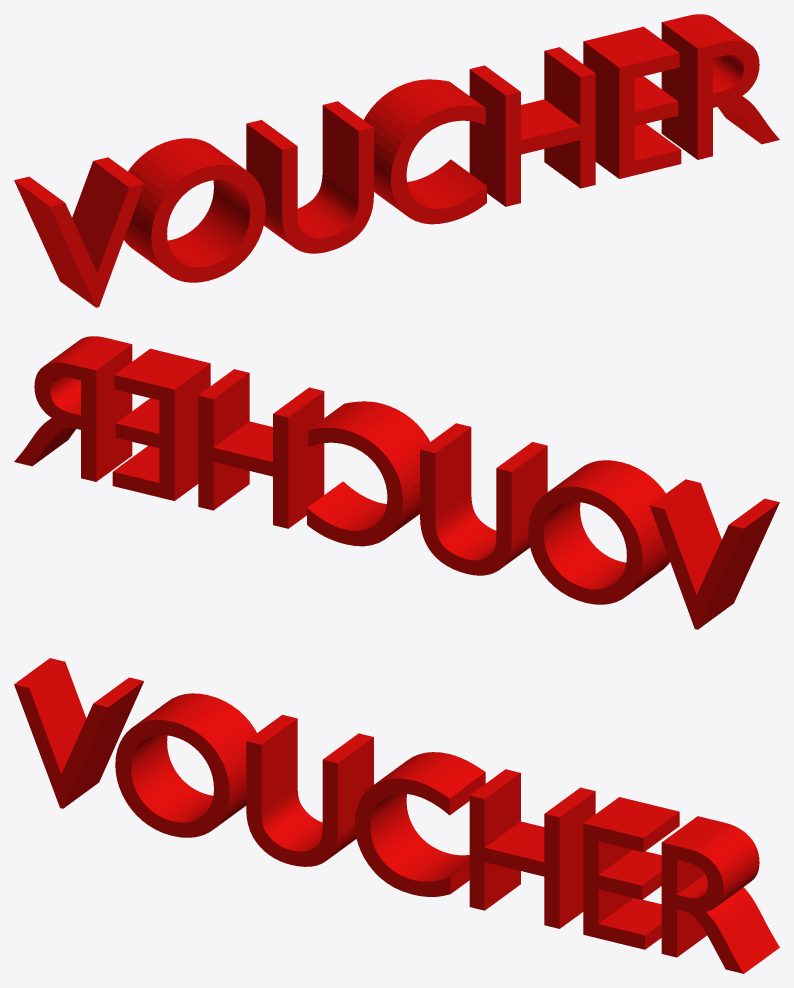
The model's file is VoucherTextModel.fbx.
The picture shows the model from 3 angles, top to bottom: view 1: azimuth 30°, elevation 25°; view 2: azimuth 150°, elevation 25°; view 3: azimuth 330°, elevation 25°; orthographic projection.
Parts seen in each view (by area): view 1: Text; view 2: Text; view 3: Text.
Boxes of the visible parts, x1,y1,x2,y2 form: Text: (14,14,779,307); Text: (14,336,779,629); Text: (14,658,779,973).
Bounding box in the file's own units: 468 × 70 × 40.
